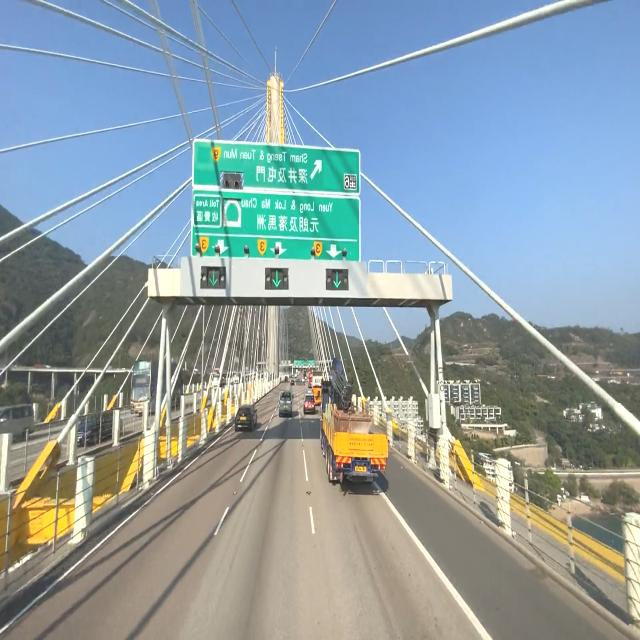Vehicle: (317, 357, 388, 491), (232, 398, 260, 437), (277, 386, 293, 419)
